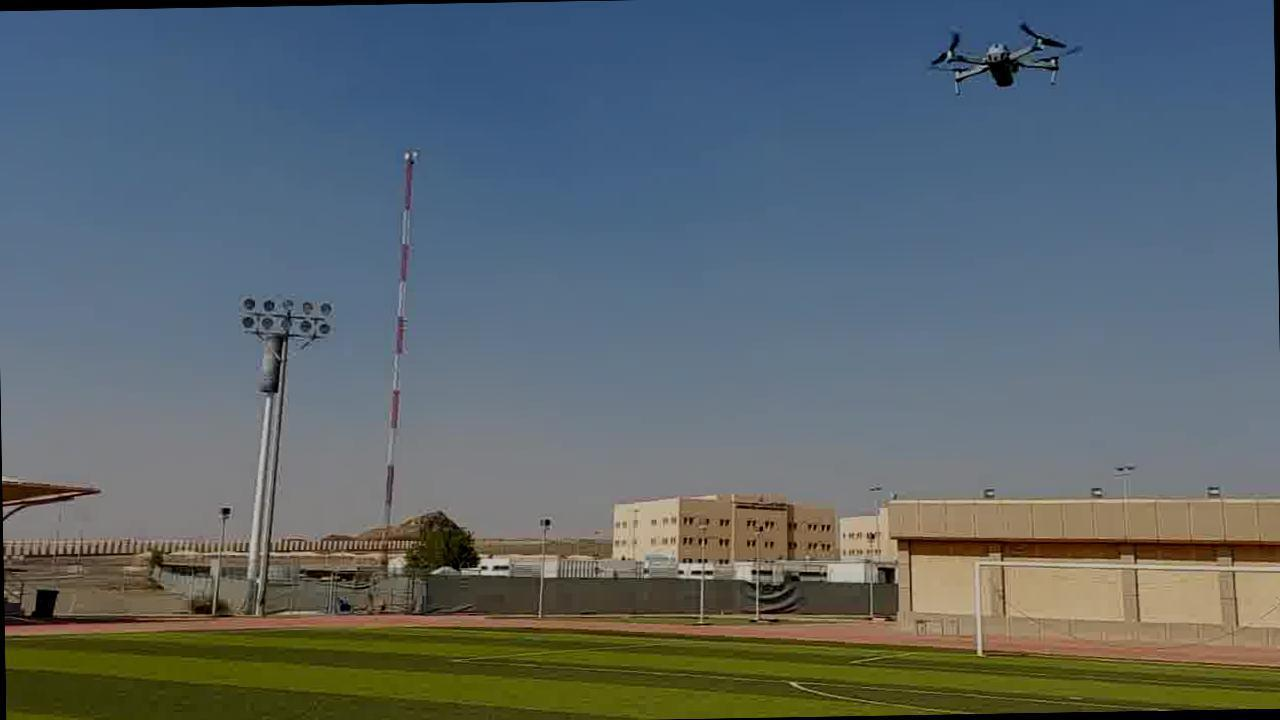drone: (929, 22, 1068, 95)
